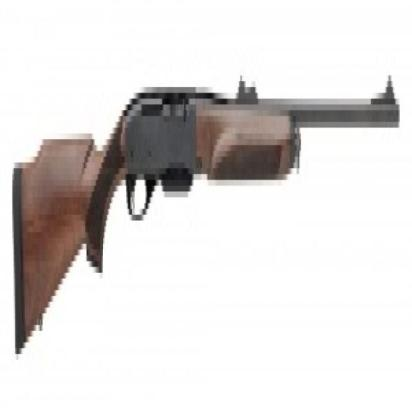Gun: (8, 62, 400, 372)
